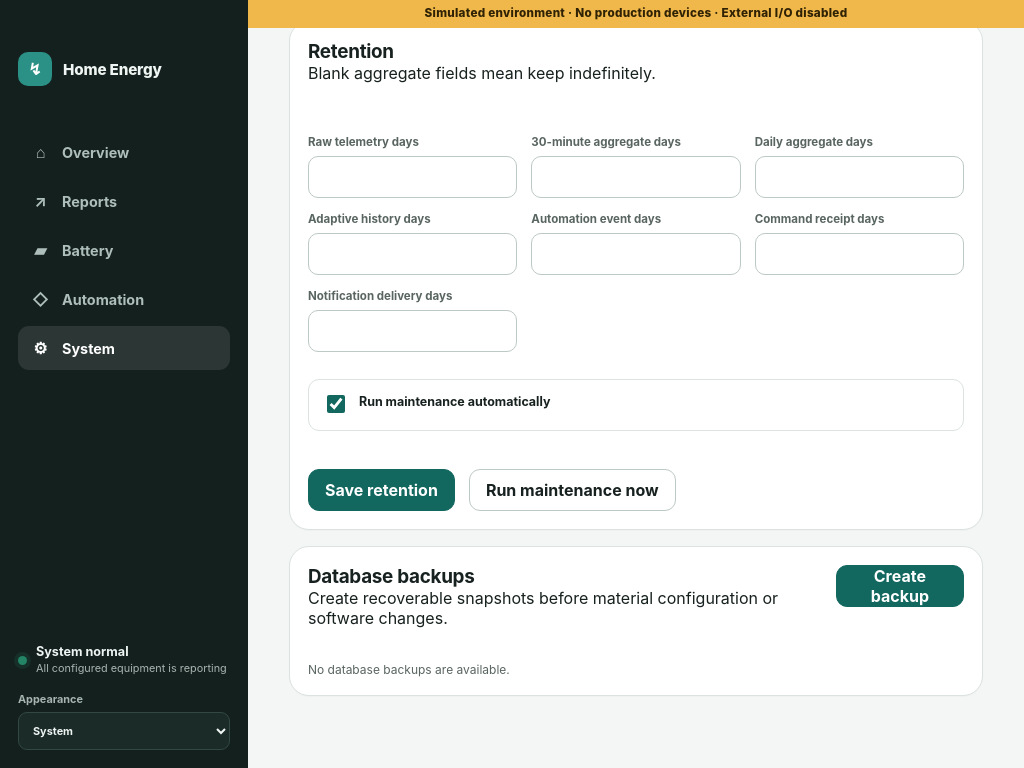
Test: React application shell › reviews retention maintenance before removing historical records
(page scrolled)
Step 1. Click the button "Save retention" → (381, 490), box [308,469,455,511]
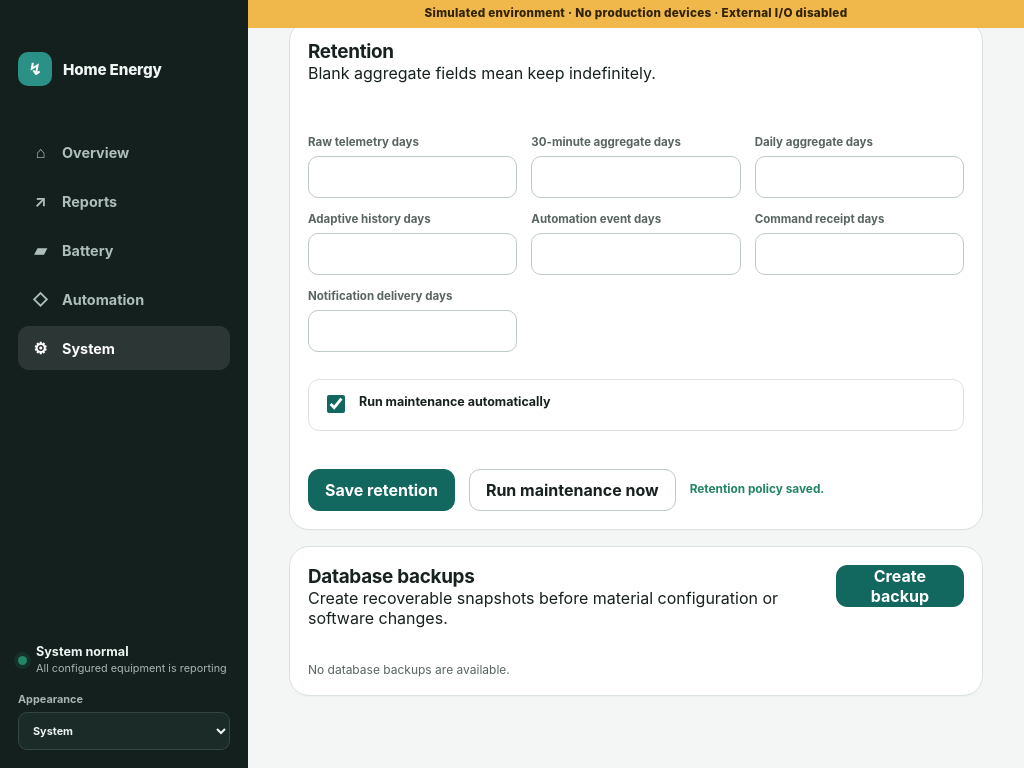
Step 2. Click the button "Run maintenance now" → (572, 490), box [469,469,676,511]
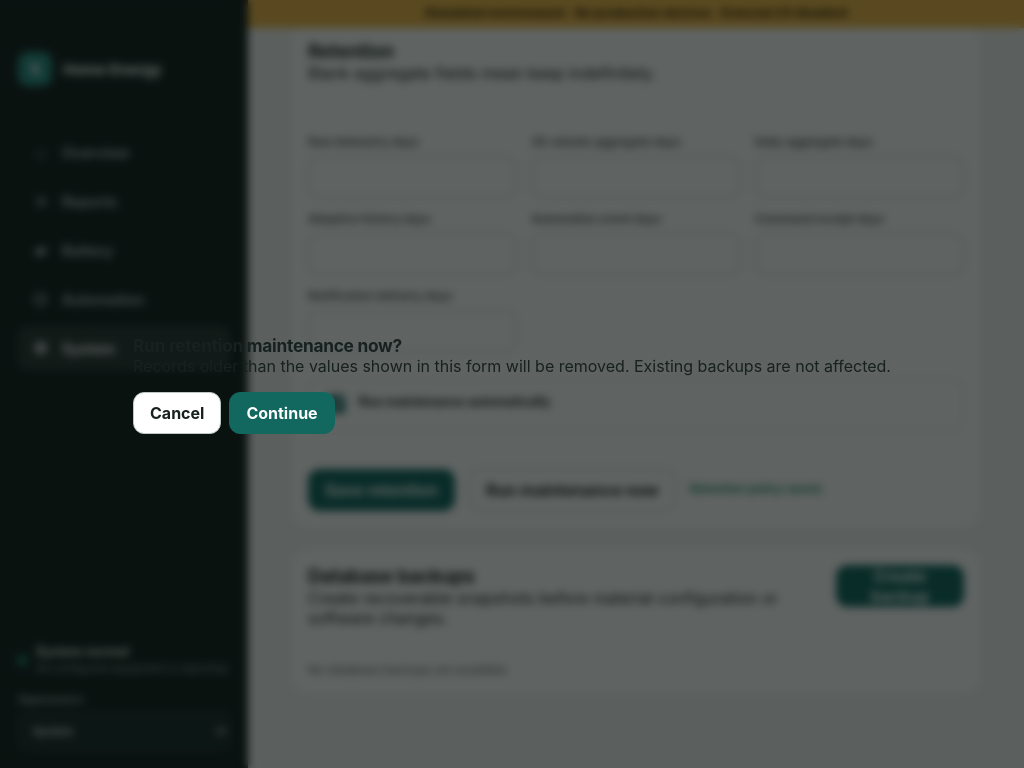
Expected: the dialog "Run retention maintenance now?" is shown, [133,334,891,434]
Expected: the text "Records older than the values shown" is shown, [133,356,891,376]
